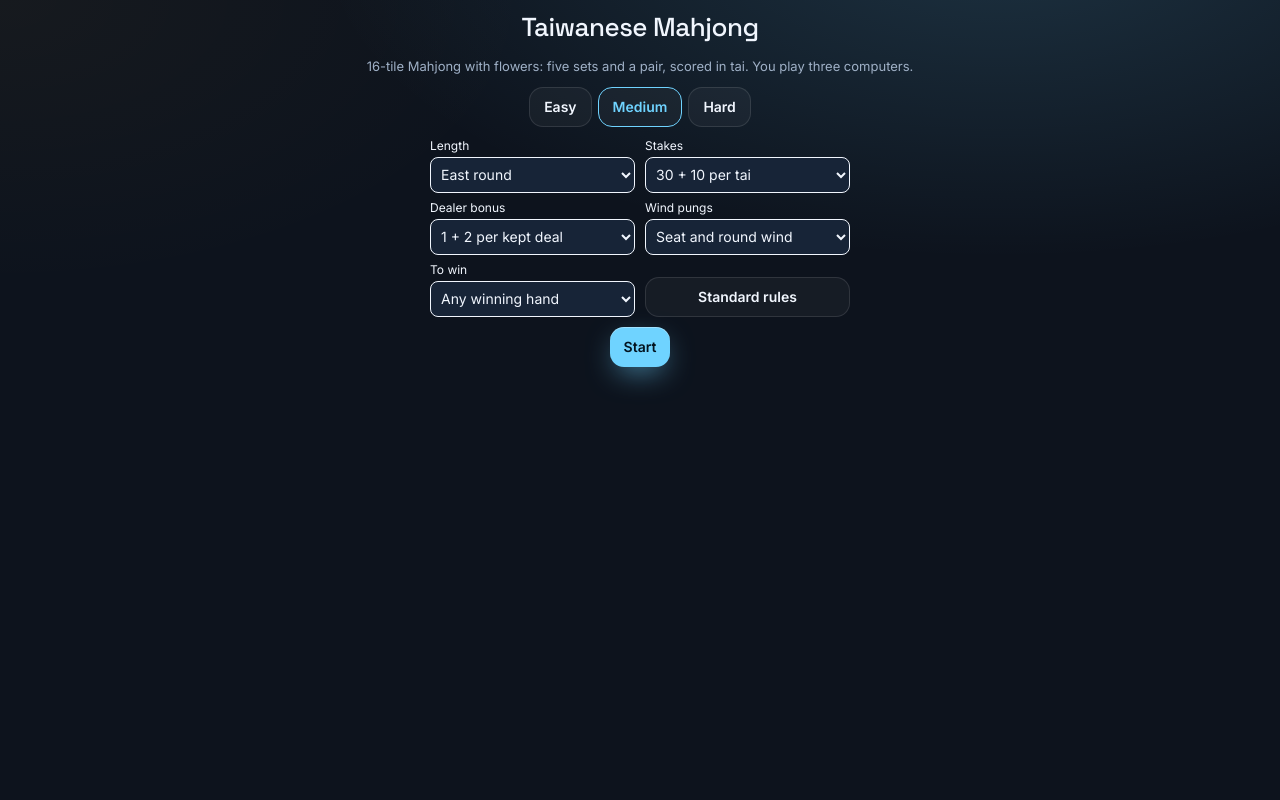
it: Taiwanese Mahjong › offers the scoring table
Select "Single hand" in the dropdown labelled "Length": (532,174) [430,156,635,192]
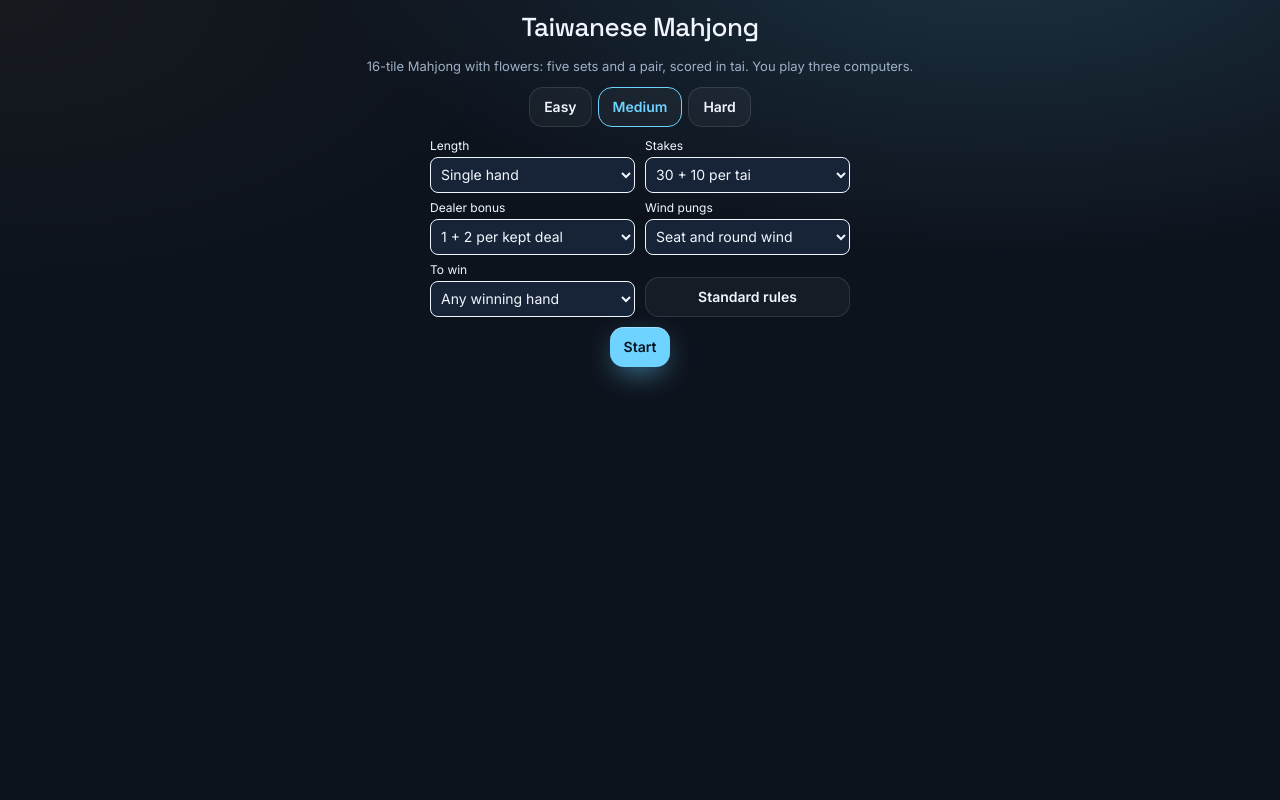
Click the button "Start": (640,346) [610,326,670,366]
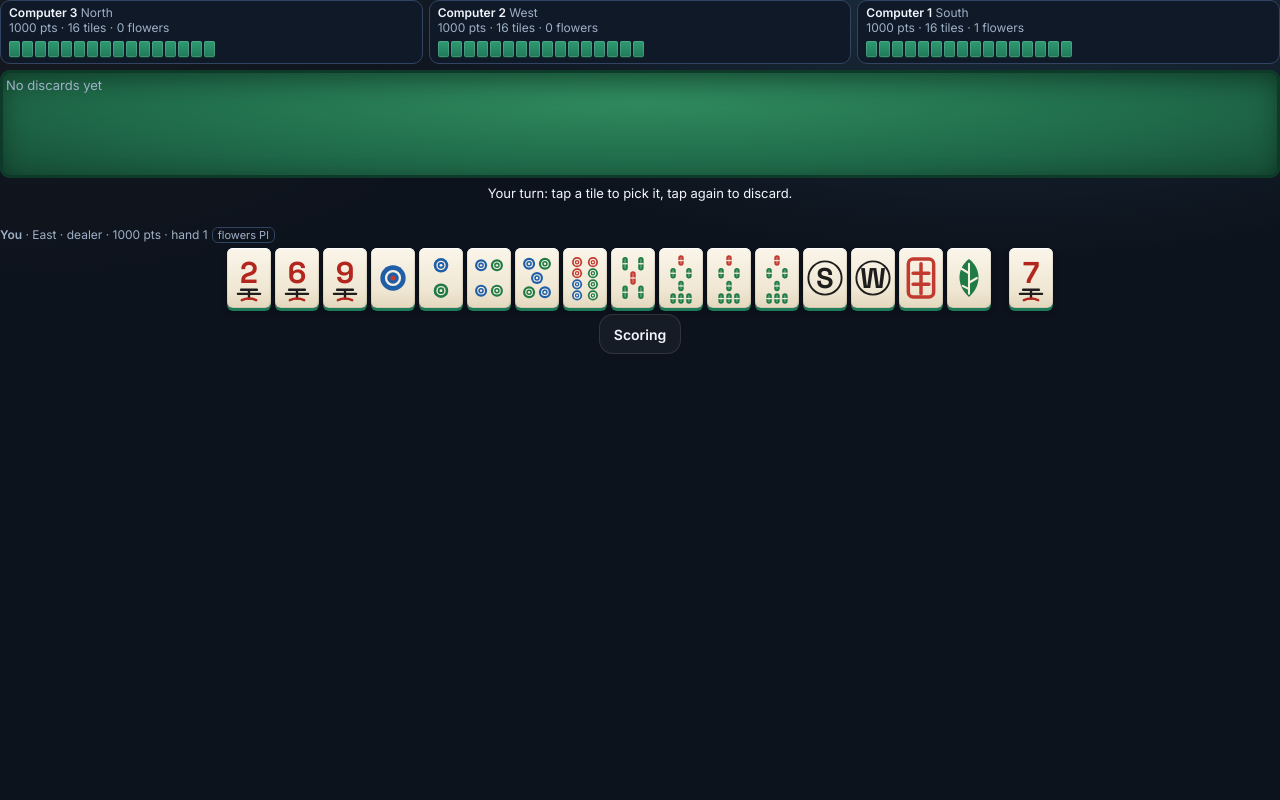
Click the button "Scoring": (640,334) [599,314,681,354]
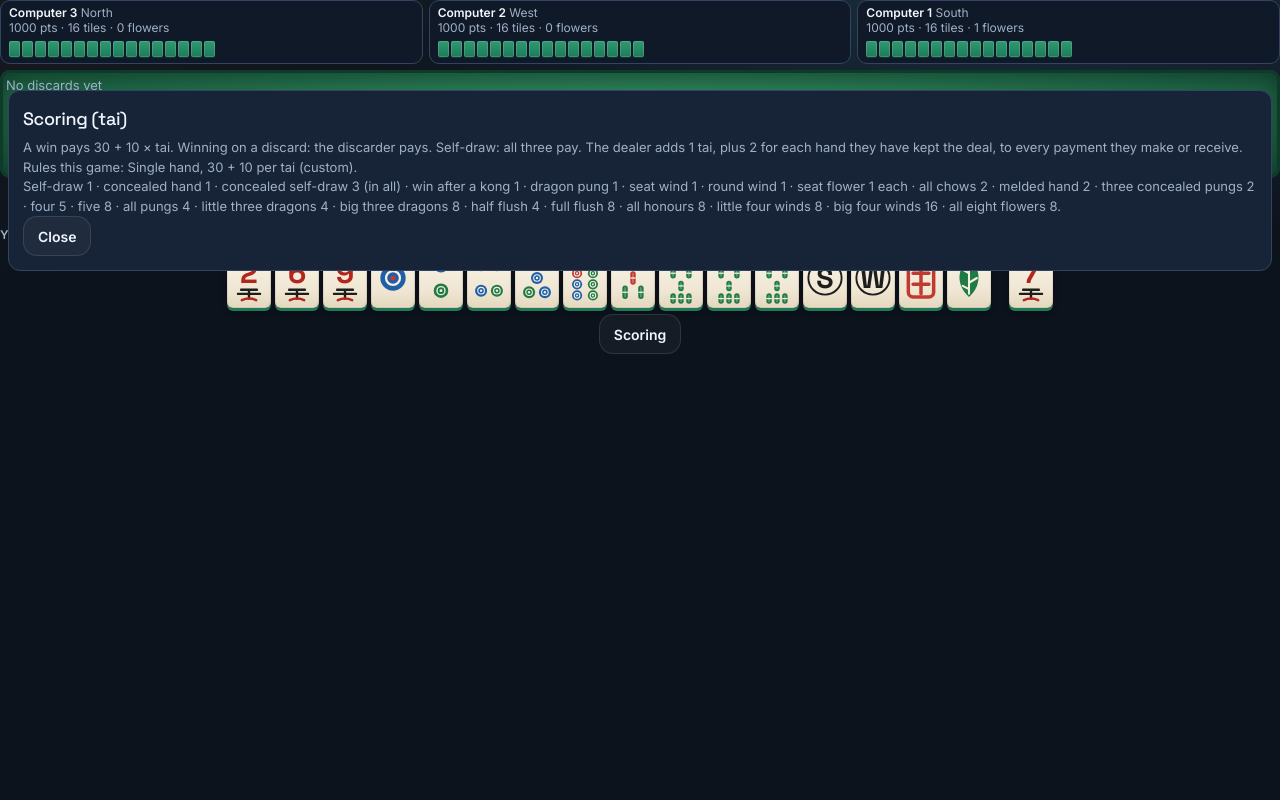
Expected: the dialog "Scoring" shows "all pungs 4", [23,178,1254,214]
